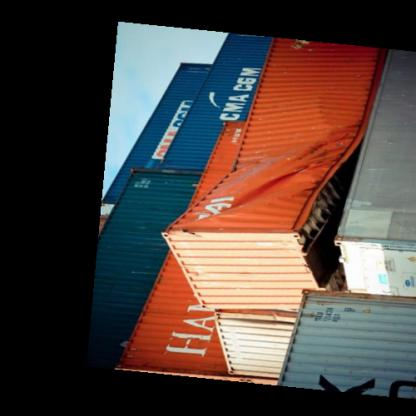Damage: (182, 124, 366, 236)
